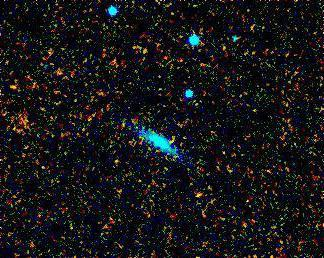star: (186, 182, 216, 212)
